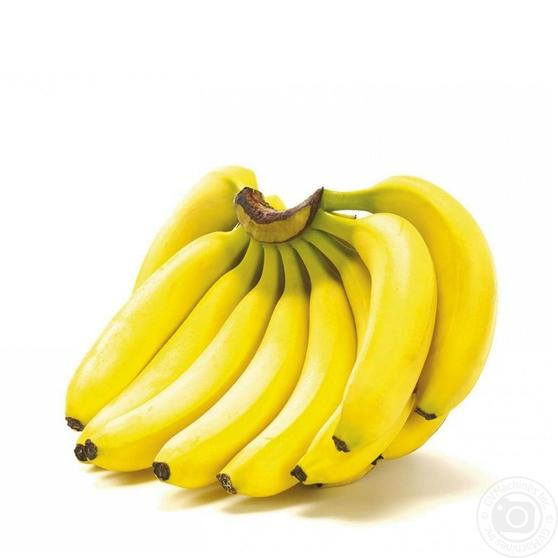banana: (311, 201, 434, 450)
